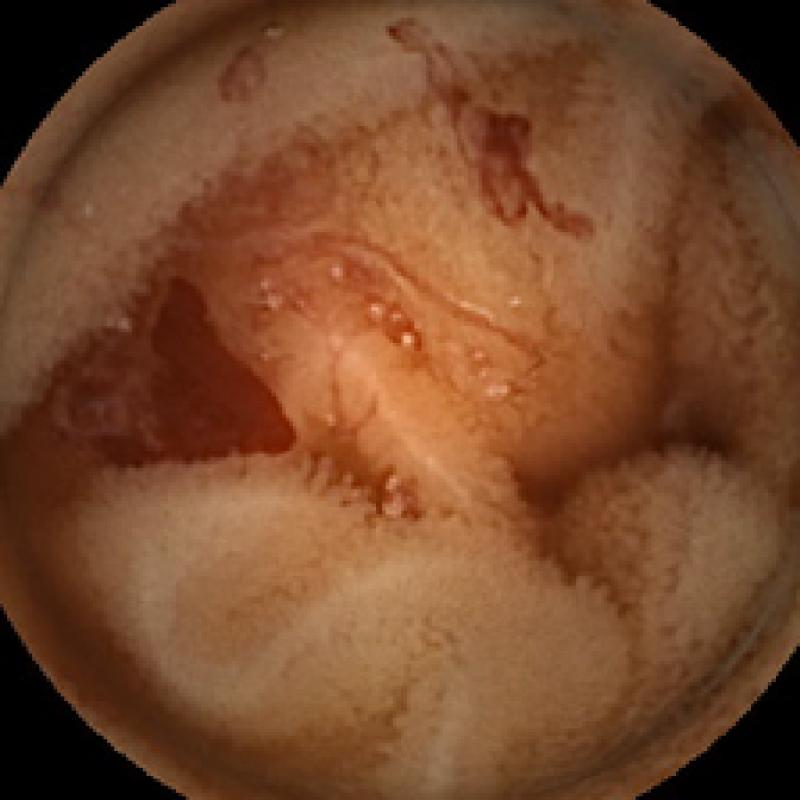bleeding: (378, 25, 593, 236), (96, 267, 300, 461)
